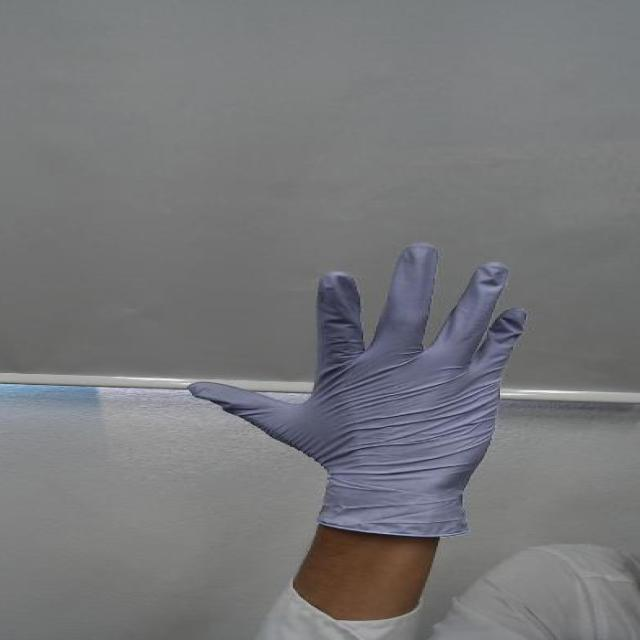glove: (168, 232, 555, 498)
